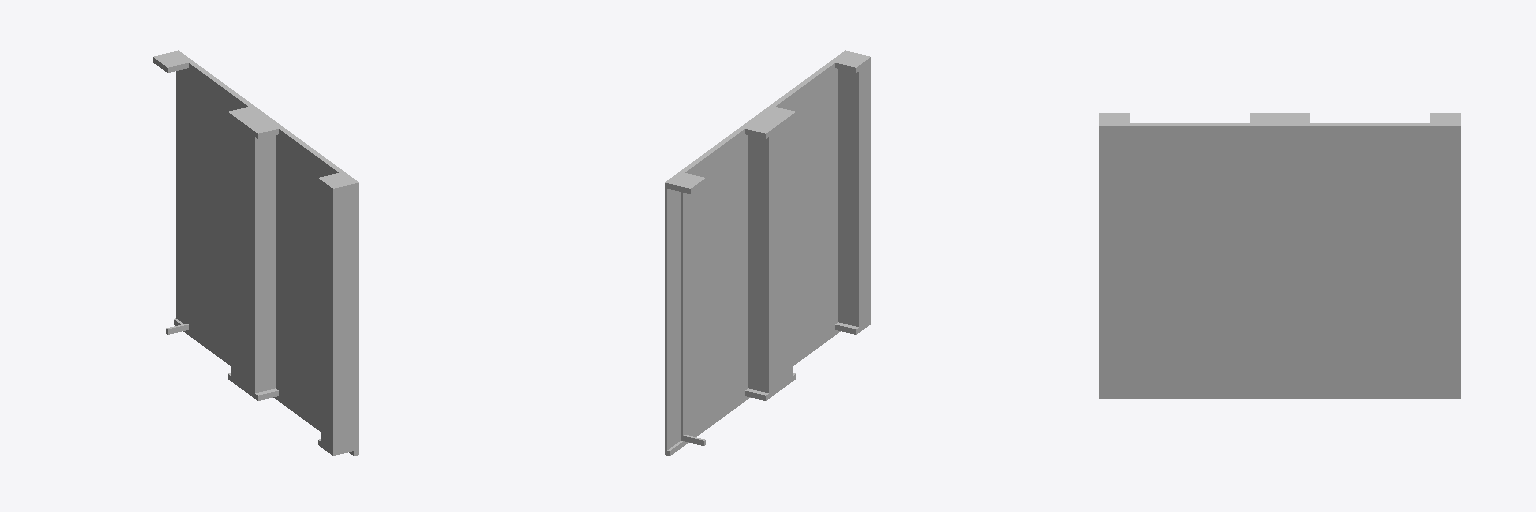
The model's file is WallForPicture.obj.
3 renders of one model, left to right at view 1: azimuth 30°, elevation 25°; view 2: azimuth 150°, elevation 25°; view 3: azimuth 270°, elevation 25°, orthographic.
Parts seen in each view (by area): view 1: object 1; view 2: object 1; view 3: object 1.
Boxes of the visible parts, <box> form: object 1: <box>153,50,358,455</box>; object 1: <box>665,50,870,455</box>; object 1: <box>1099,113,1460,398</box>.
Bounding box in the file's own units: 1 × 10 × 12.